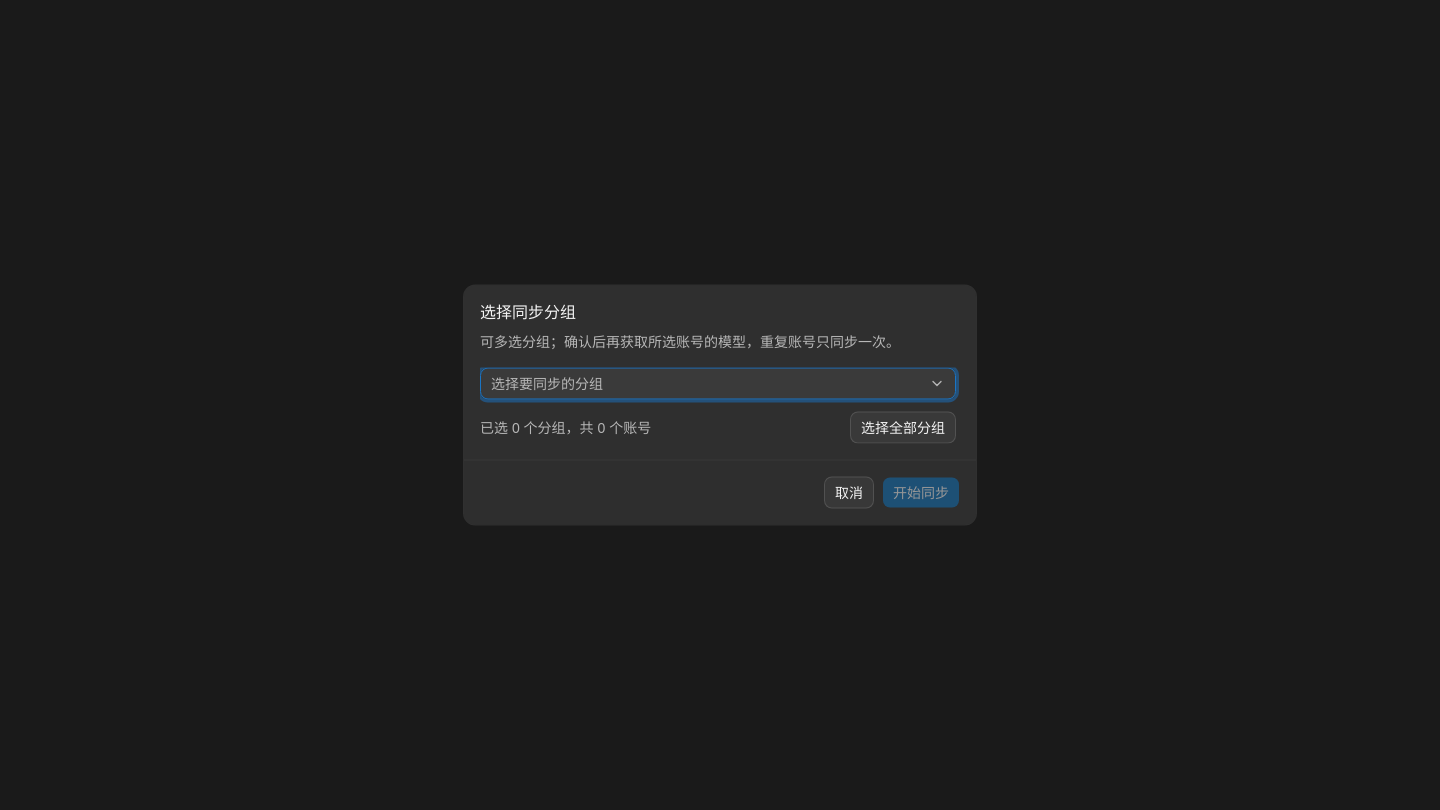
全局屏蔽后手动输入同名模型时显示字段错误，不恢复卡片
Click the button "选择全部分组": x=903, y=428 [850,412,956,444]
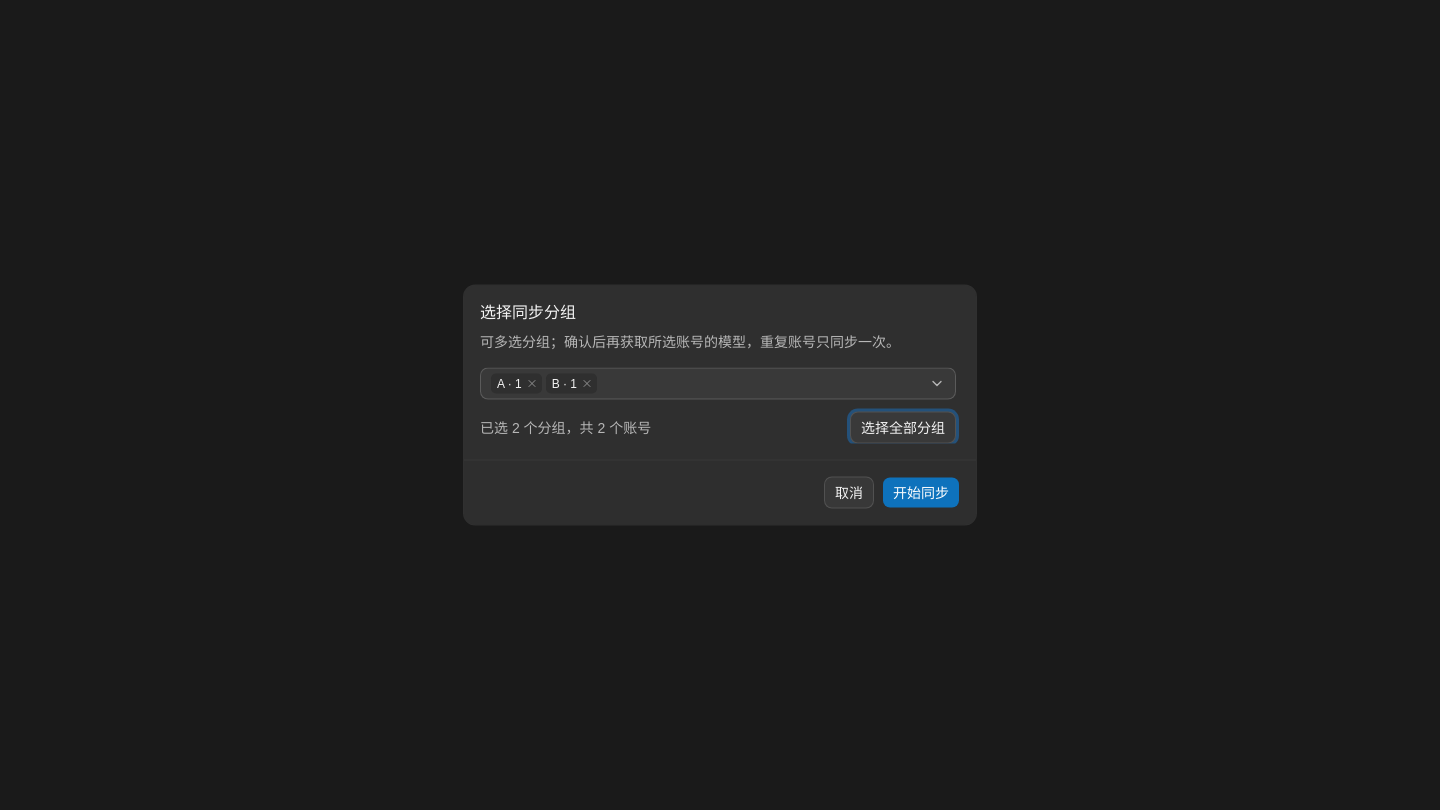
Click the button "开始同步": x=921, y=492 [882,476,960,508]
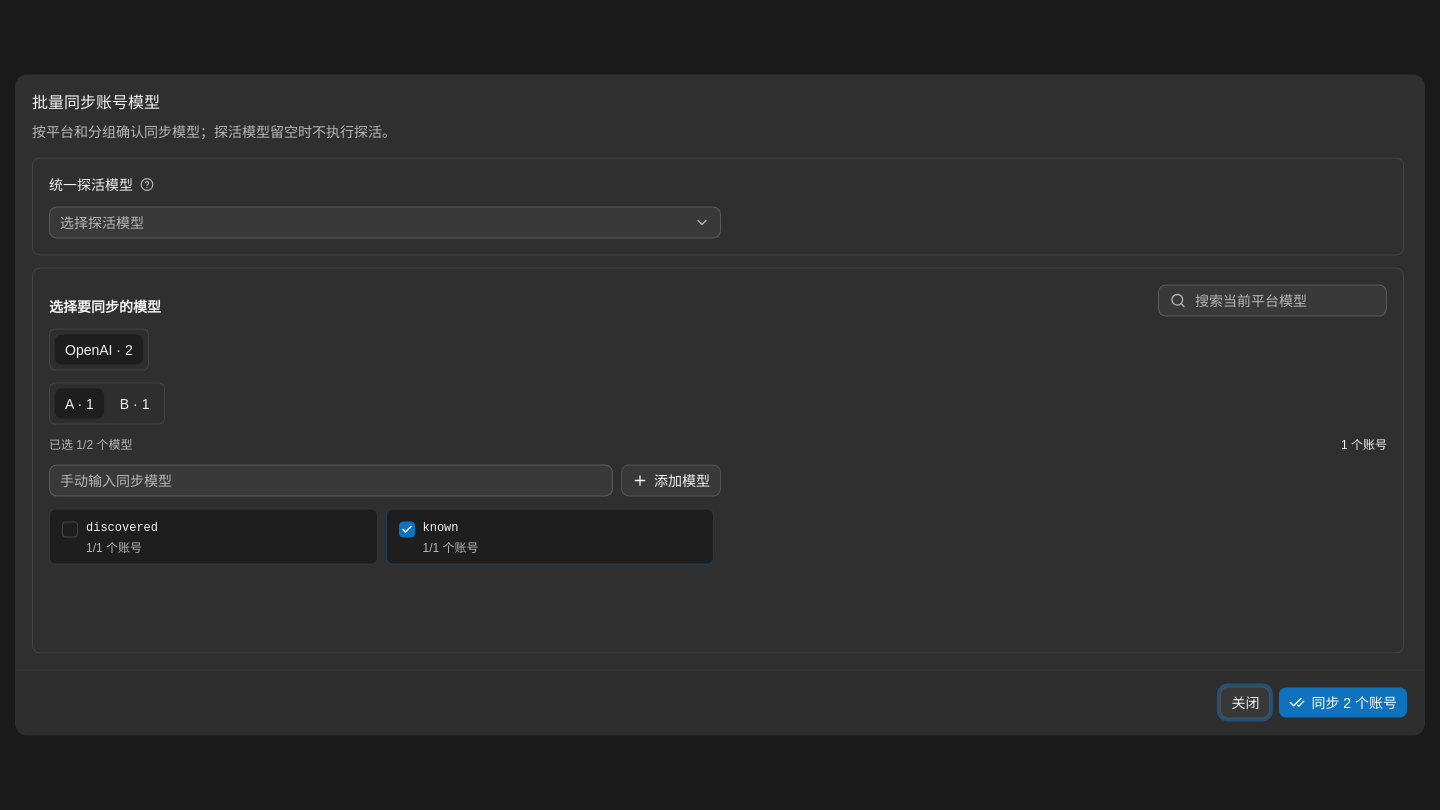
Check: the field labelled "手动输入同步模型" is shown, box [49,464,613,496]
Right-click the element named "模型 known": x=550, y=536 [386,508,714,564]
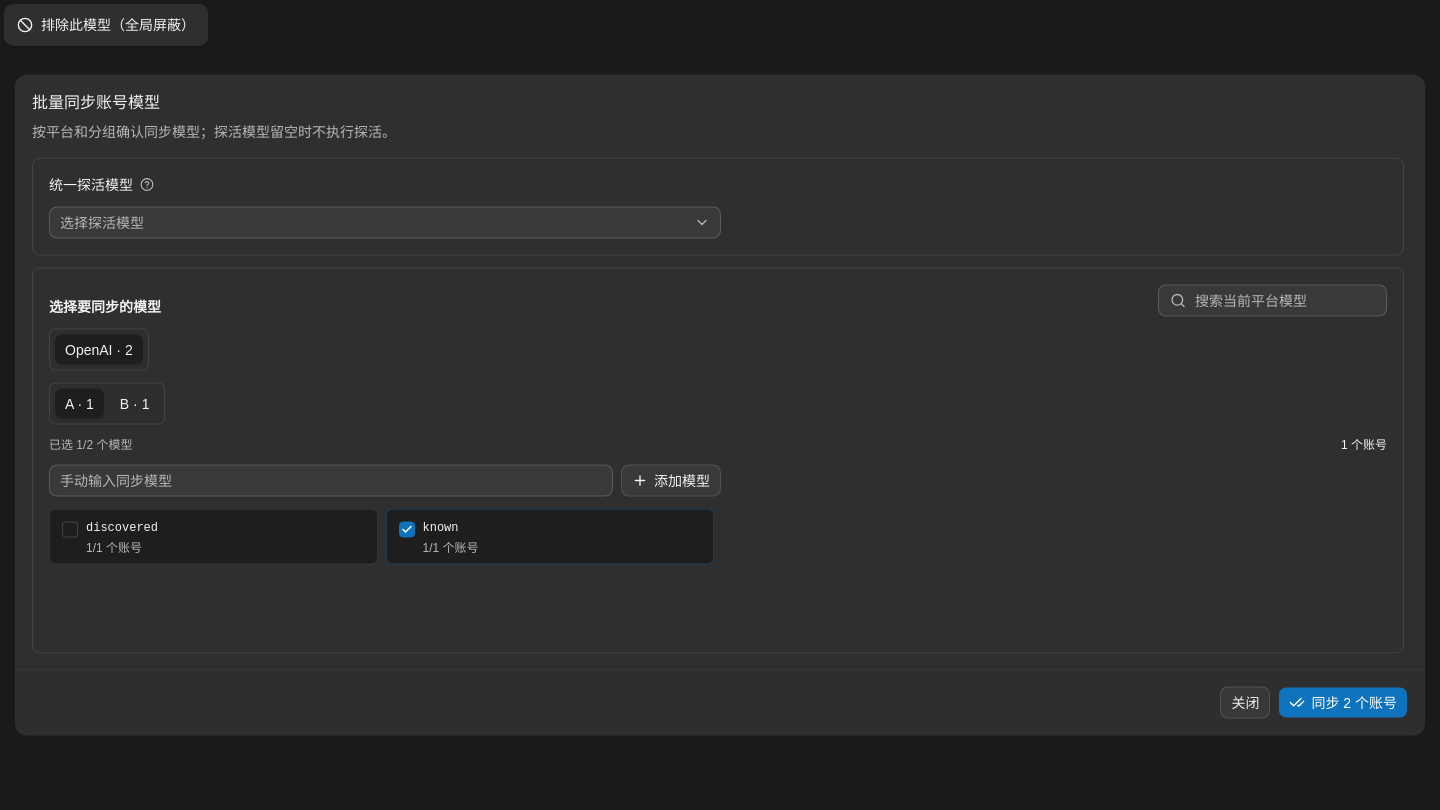
Click the menu item "排除此模型（全局屏蔽）": x=106, y=25 [17,17,195,33]
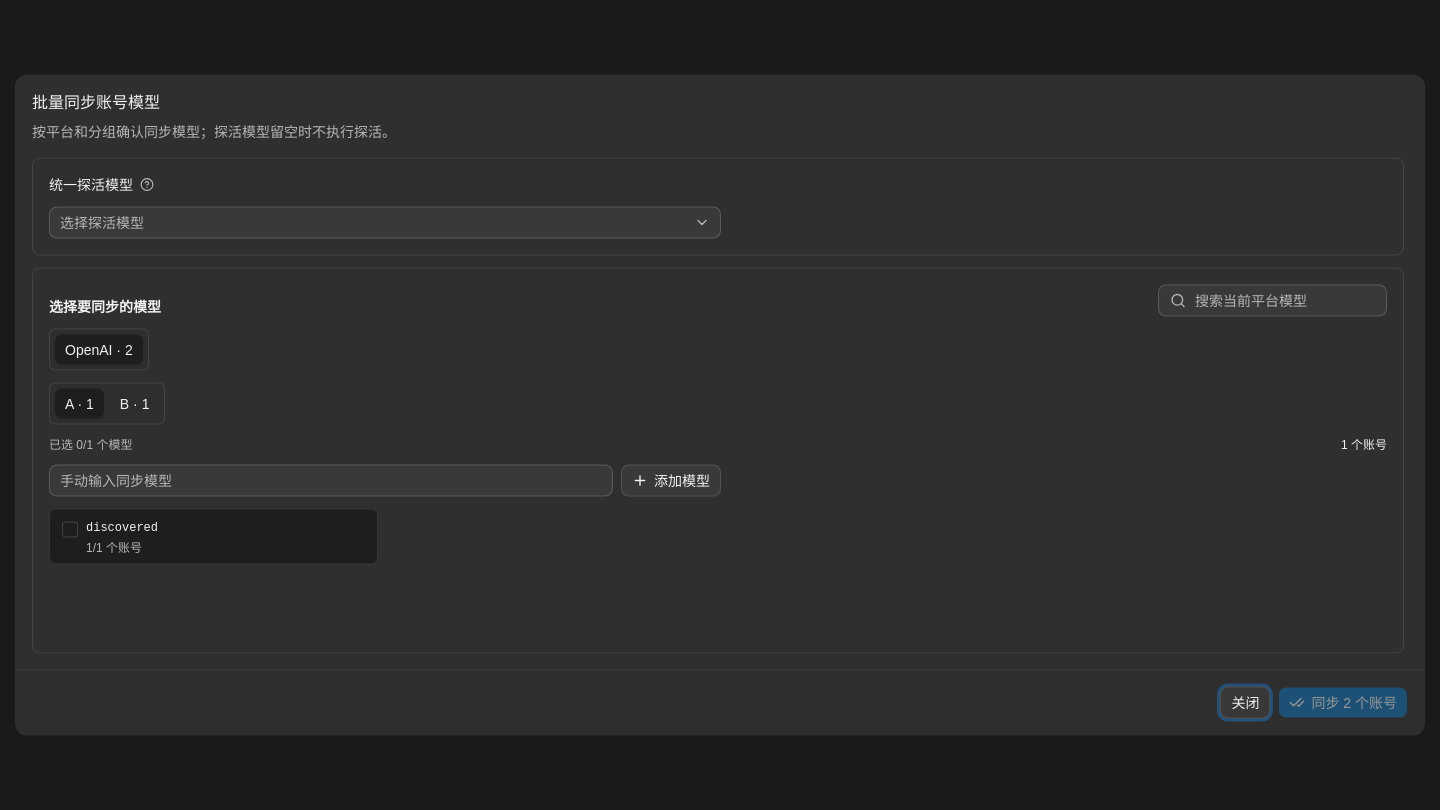
Check: the button "添加模型" is enabled, box [621,464,721,496]
In the field labelled "手动输入同步模型": x=331, y=480 [49,464,613,496], type "KNOWN"
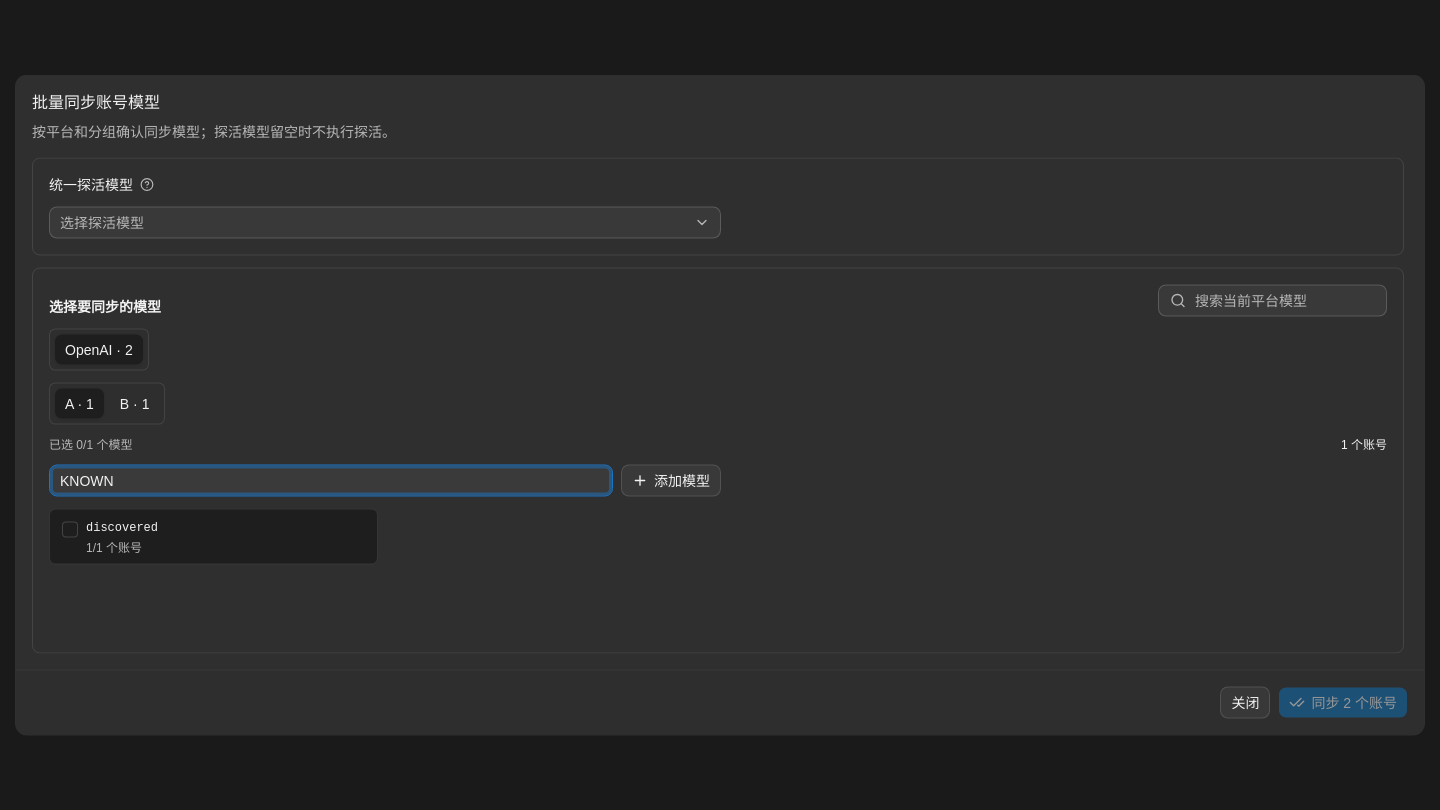
Click the button "添加模型": x=671, y=480 [621,464,721,496]
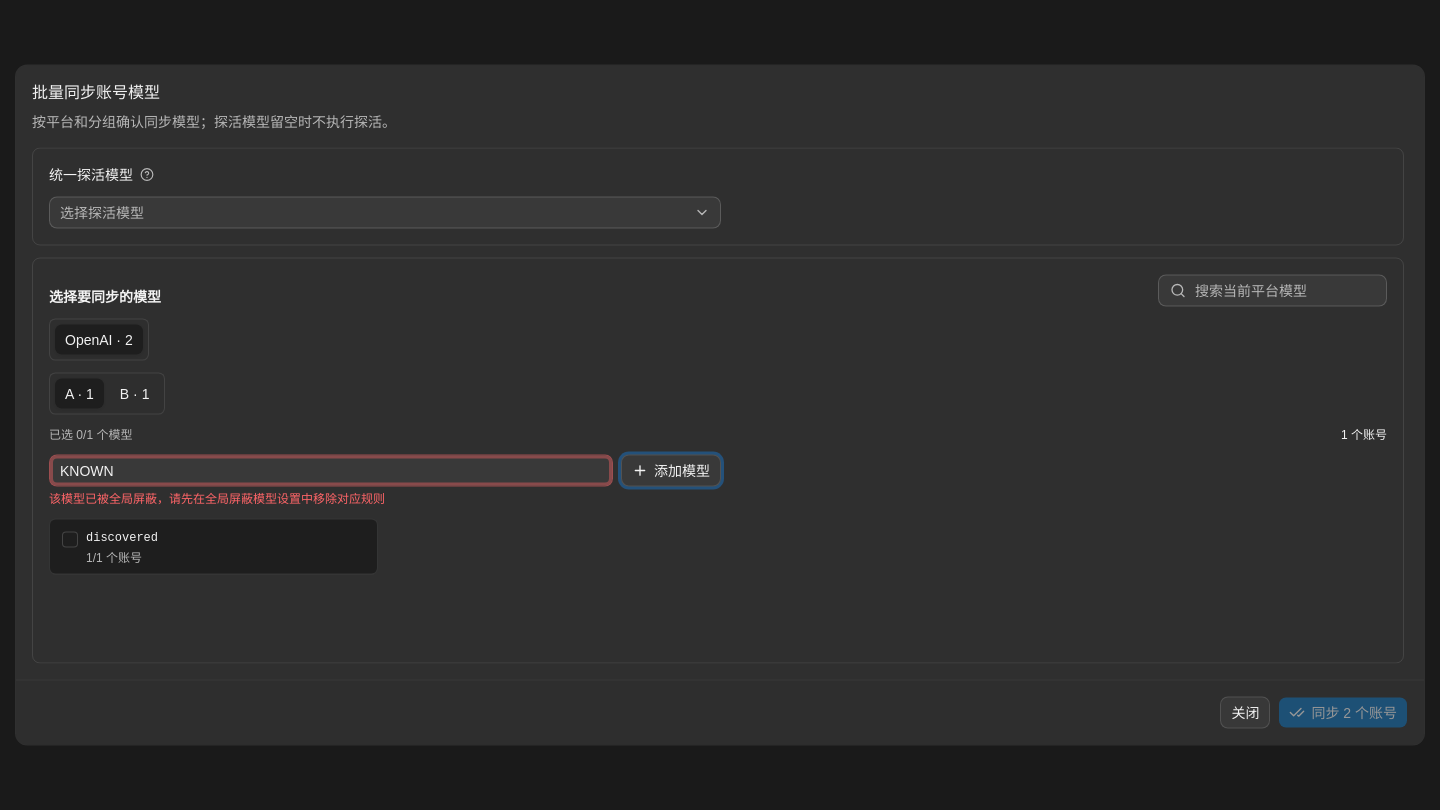
Check: the text "该模型已被全局屏蔽，请先在全局屏蔽模型设置中移除对应规则" is shown, box [49,492,385,506]
